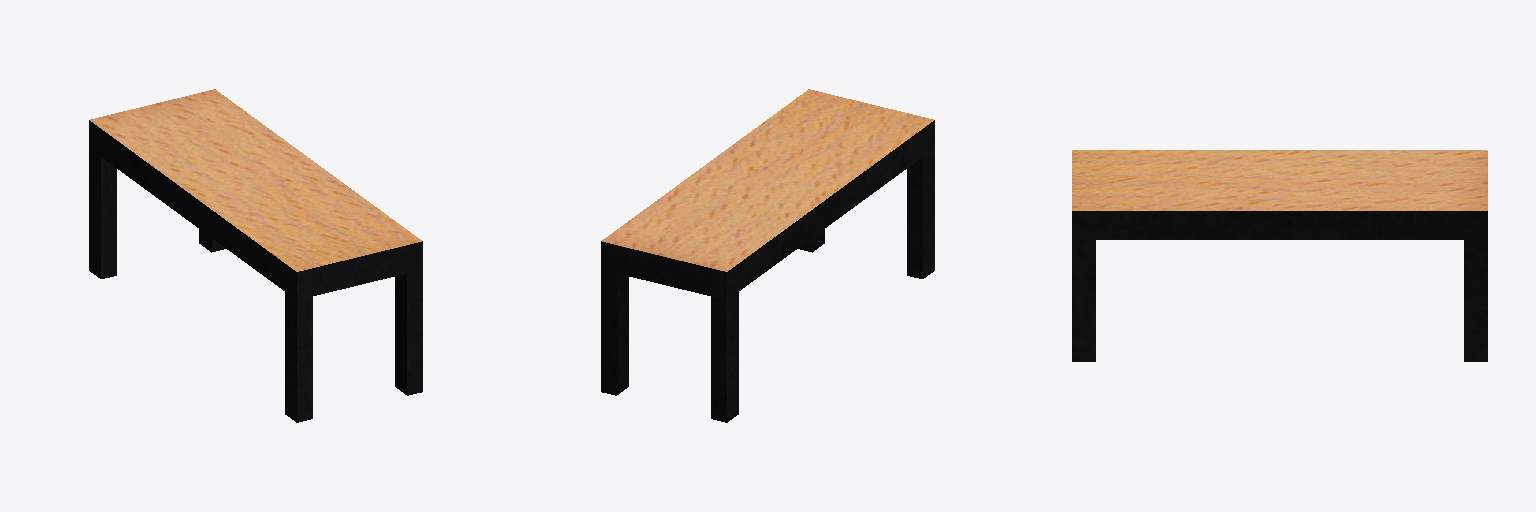
3 renders of one model, left to right at view 1: azimuth 30°, elevation 25°; view 2: azimuth 150°, elevation 25°; view 3: azimuth 270°, elevation 25°, orthographic.
Parts seen in each view (by area): view 1: c1_tav; view 2: c1_tav; view 3: c1_tav.
Part boxes in pixels (x1,y1,x2,y2): c1_tav: (89,89,422,422); c1_tav: (601,89,934,422); c1_tav: (1072,150,1487,361).
Size of the model in its own units: 700 by 800 by 2000.
1 materials, 1 textured.